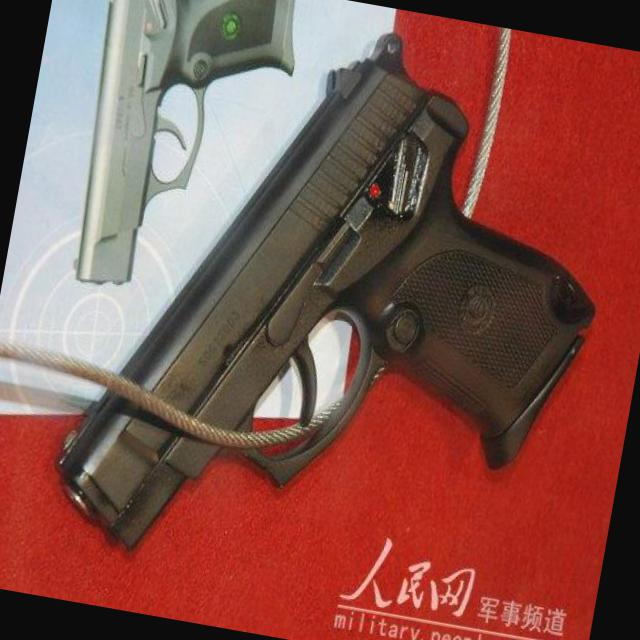handgun: (38, 0, 637, 623)
